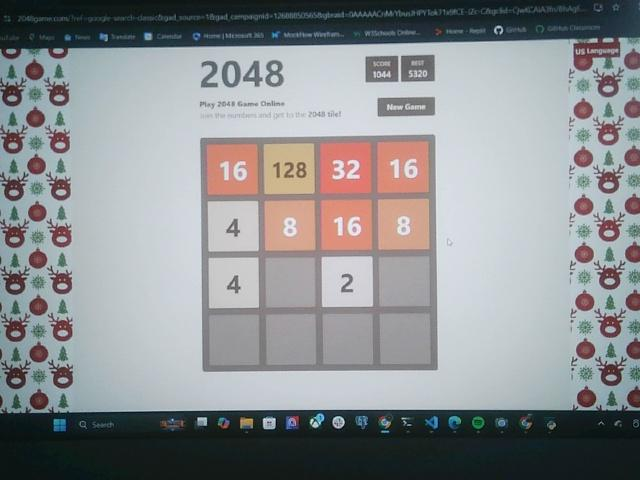board: (201, 135, 437, 370)
tile: (378, 142, 429, 194), (378, 199, 430, 250), (209, 200, 259, 253), (265, 200, 316, 251), (323, 256, 373, 308), (321, 143, 371, 194), (321, 201, 372, 251), (209, 258, 259, 309), (208, 145, 258, 194), (265, 144, 314, 193)
